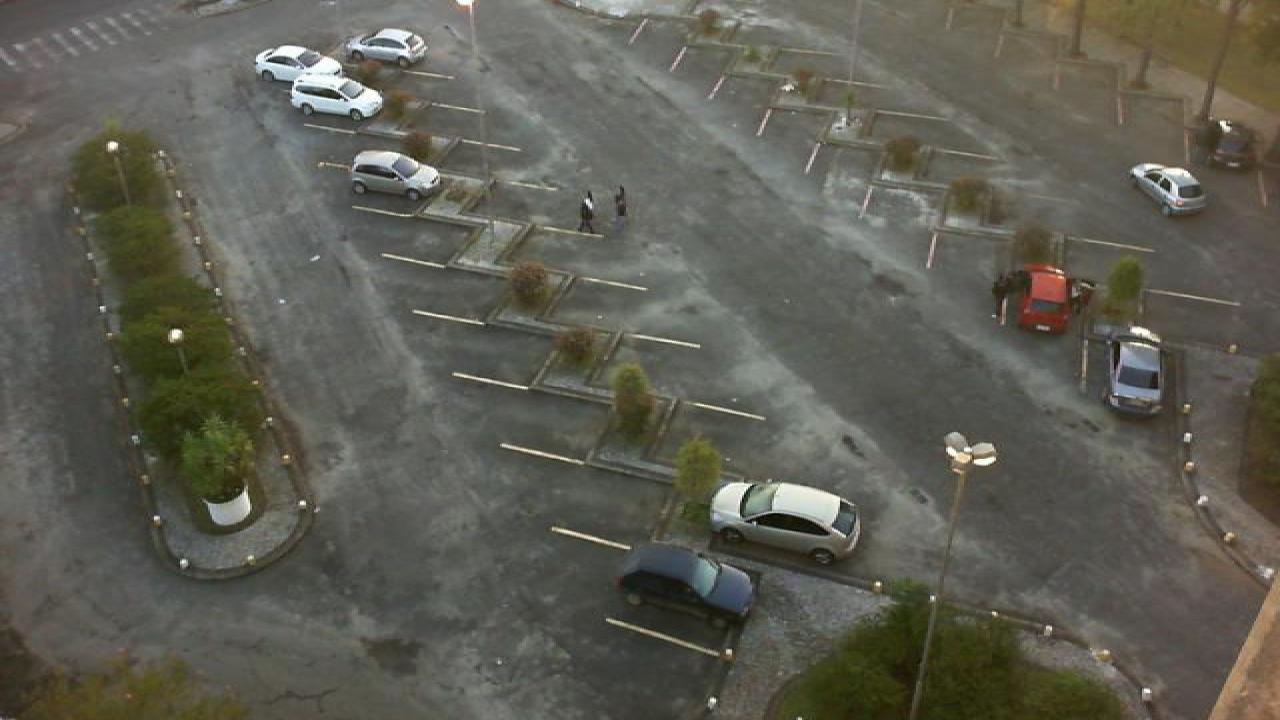Car: (708, 478, 862, 566), (616, 542, 756, 629), (1102, 325, 1168, 415), (350, 148, 446, 202), (288, 74, 388, 120), (1128, 162, 1208, 216), (1012, 263, 1070, 334), (252, 44, 342, 84), (348, 27, 430, 69), (1206, 117, 1256, 170)
